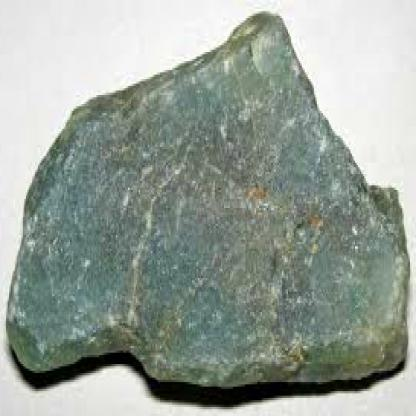Metamorphic_Quartize: (1, 12, 410, 410)
